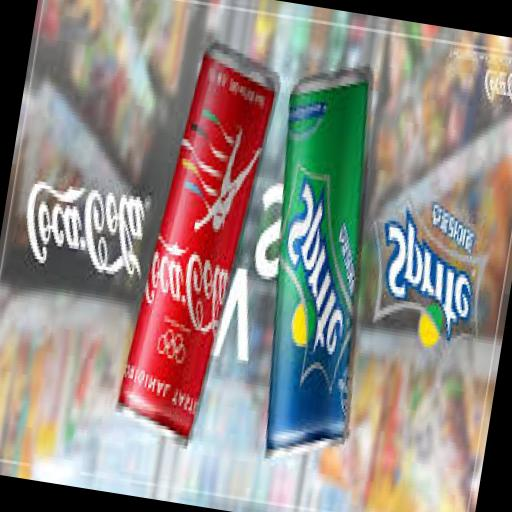Coca: (108, 34, 290, 460)
